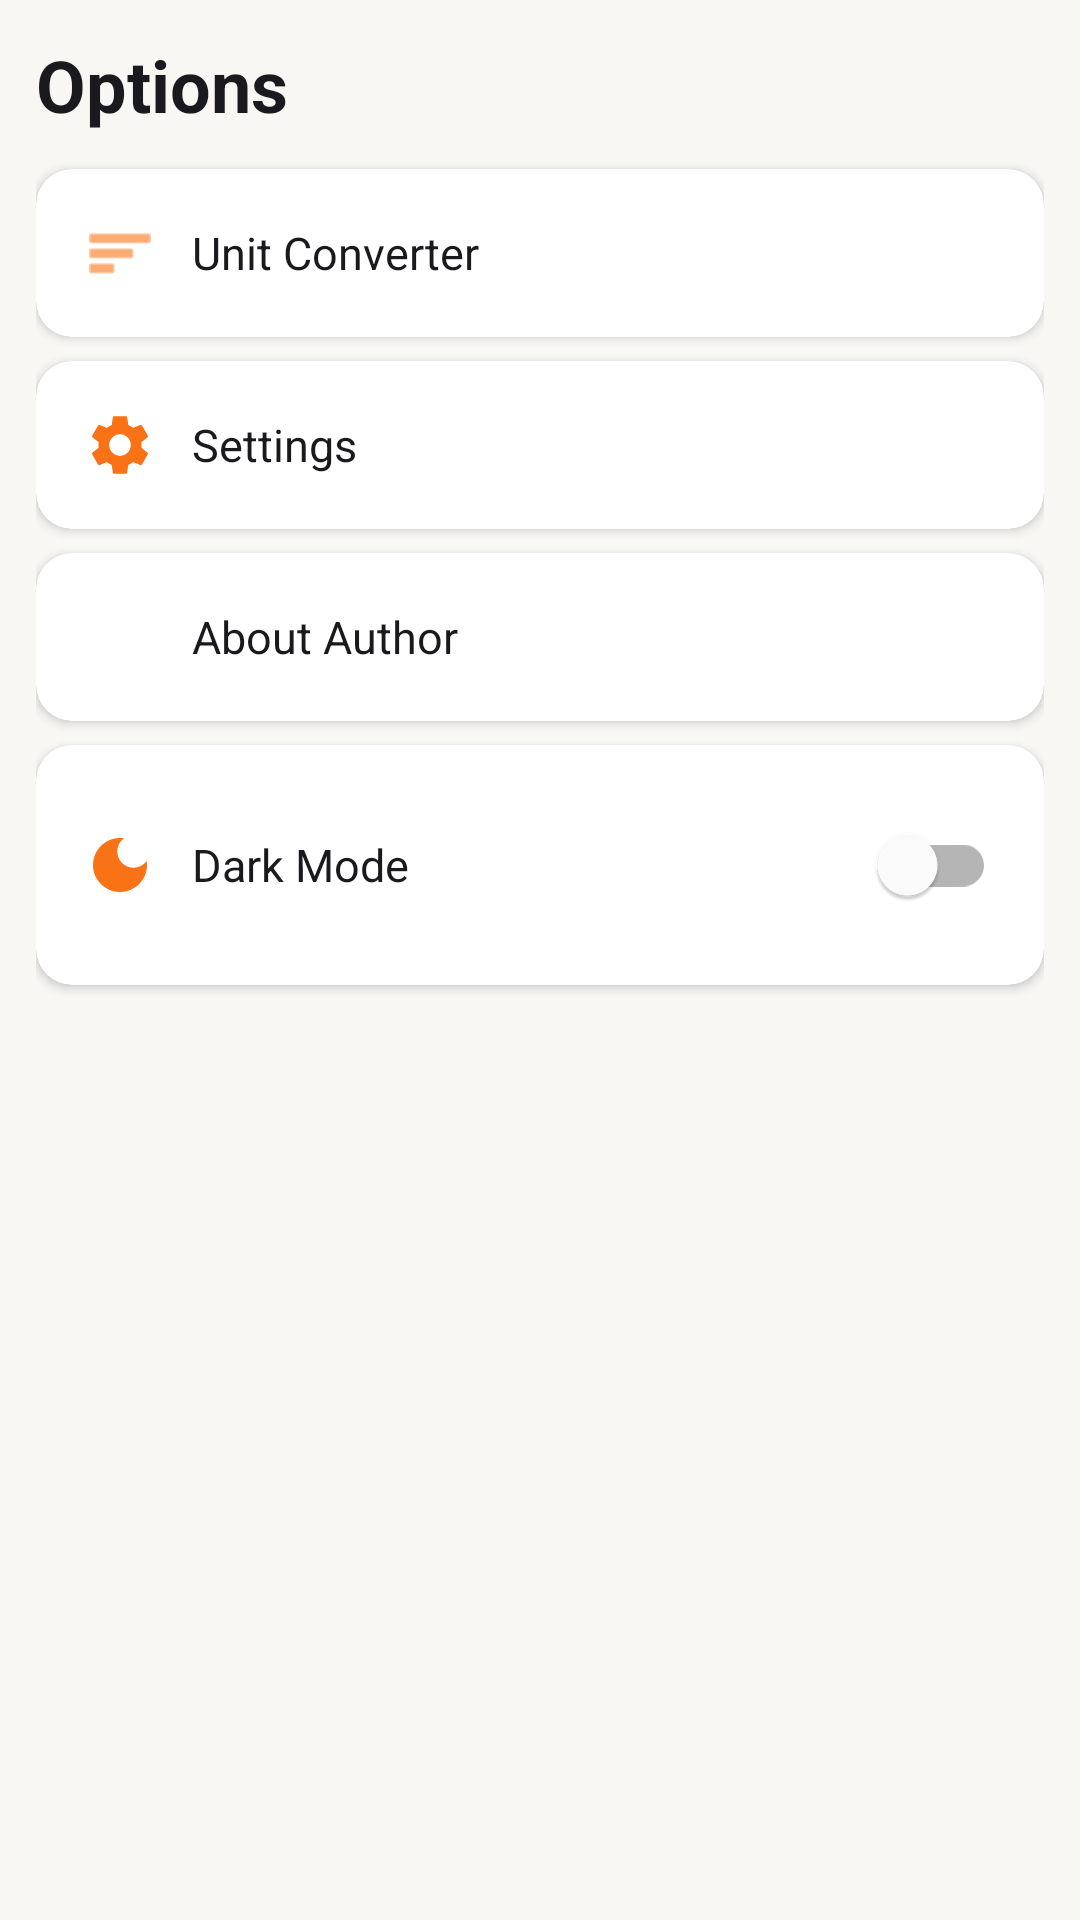

Named icons in this screenshot (1080 × 1920) and their centers, point (x, y):
moon: point (120, 865)
sort by size: point (120, 253)
